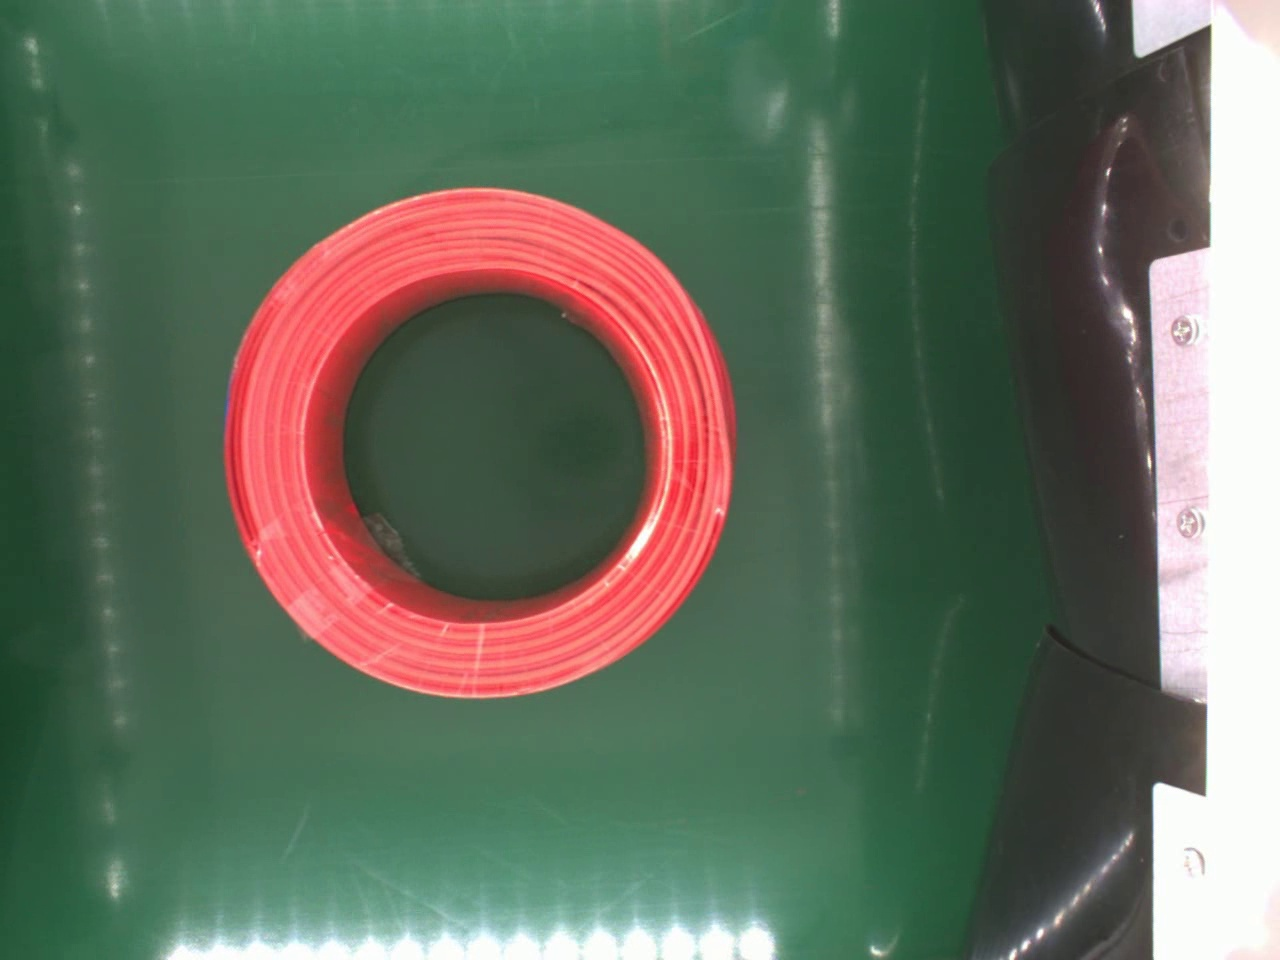red: (220, 183, 743, 705)
